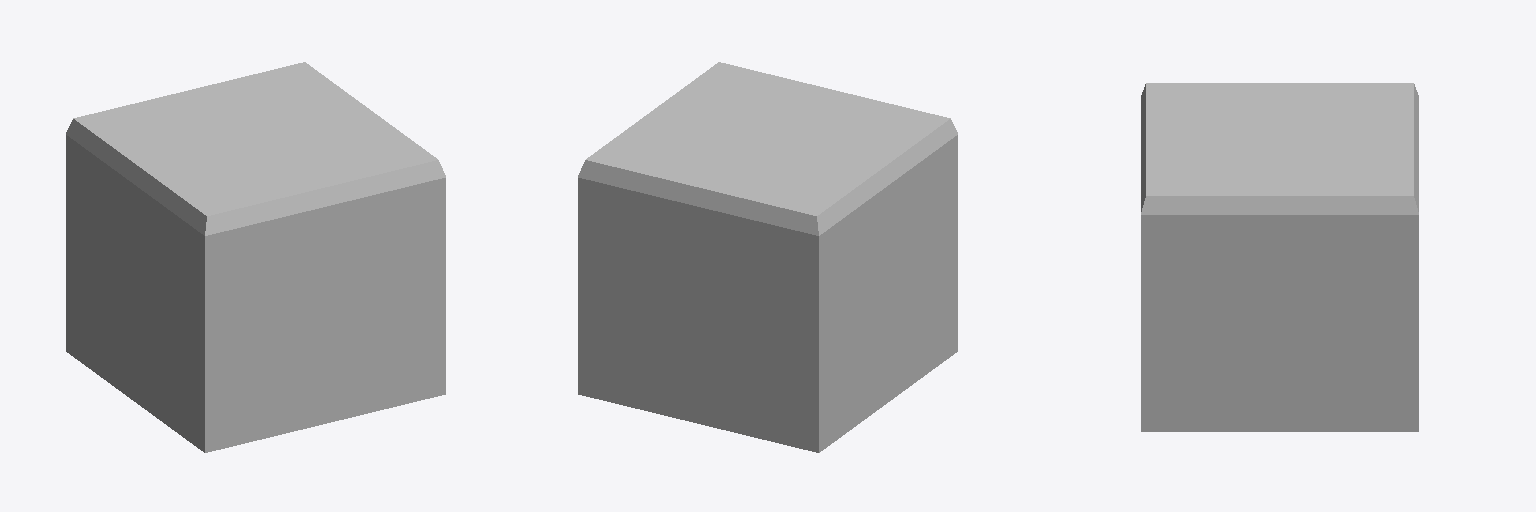
The model's file is obstaculo.obj.
3 views of the same model, side by side, from view 1: azimuth 30°, elevation 25°; view 2: azimuth 150°, elevation 25°; view 3: azimuth 270°, elevation 25° (orthographic).
Visible parts, largest first — view 1: obstaculo_Cube.002; view 2: obstaculo_Cube.002; view 3: obstaculo_Cube.002.
Part boxes in pixels (x1,y1,x2,y2): obstaculo_Cube.002: (66, 62, 445, 452); obstaculo_Cube.002: (578, 62, 957, 452); obstaculo_Cube.002: (1141, 83, 1418, 431).
Bounding box in the file's own units: 2 × 1.85 × 2.